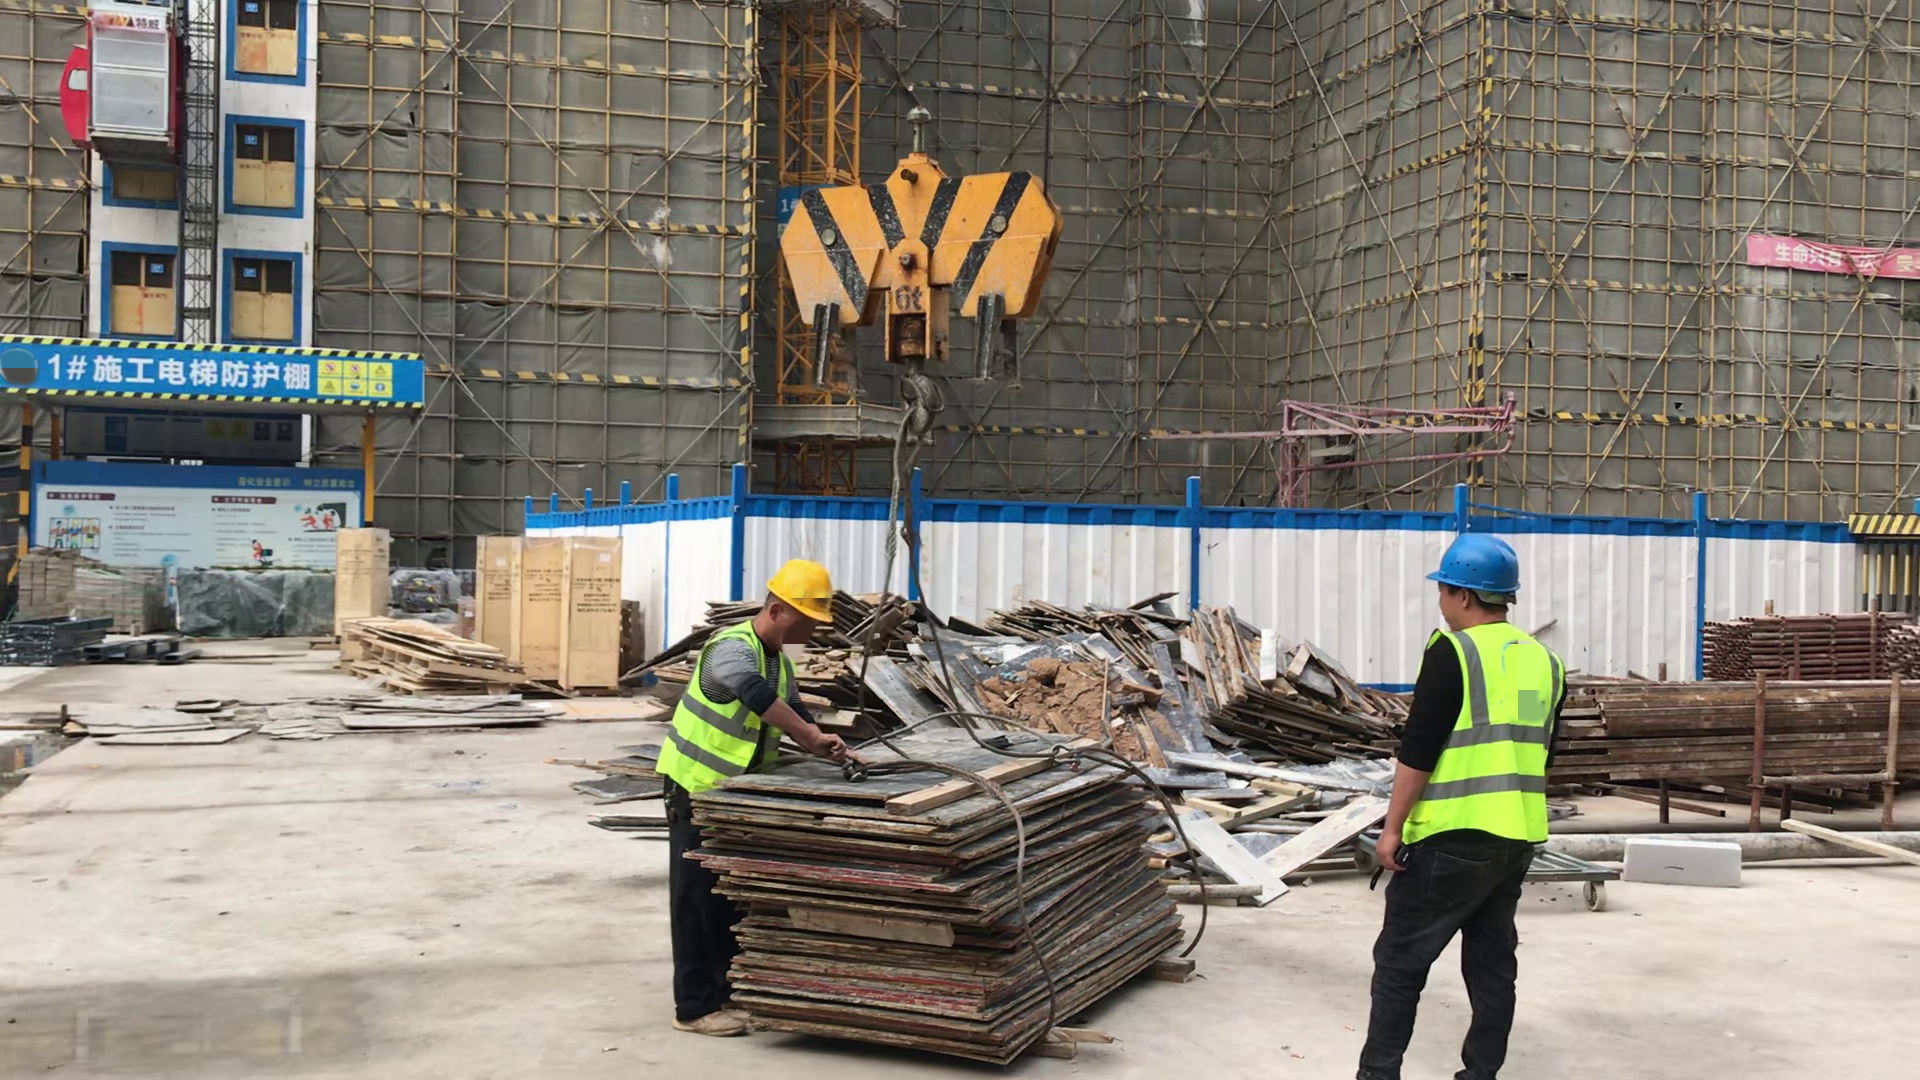board: (691, 723, 1189, 1064)
helmet: (1428, 531, 1524, 601), (763, 556, 835, 625)
hook: (780, 149, 1063, 436)
person: (1354, 534, 1571, 1080), (652, 556, 877, 1038)
scaffold: (1714, 611, 1920, 677)
slogan: (44, 336, 422, 403), (1740, 228, 1920, 280)
vest: (1398, 621, 1559, 840), (657, 624, 794, 780)
